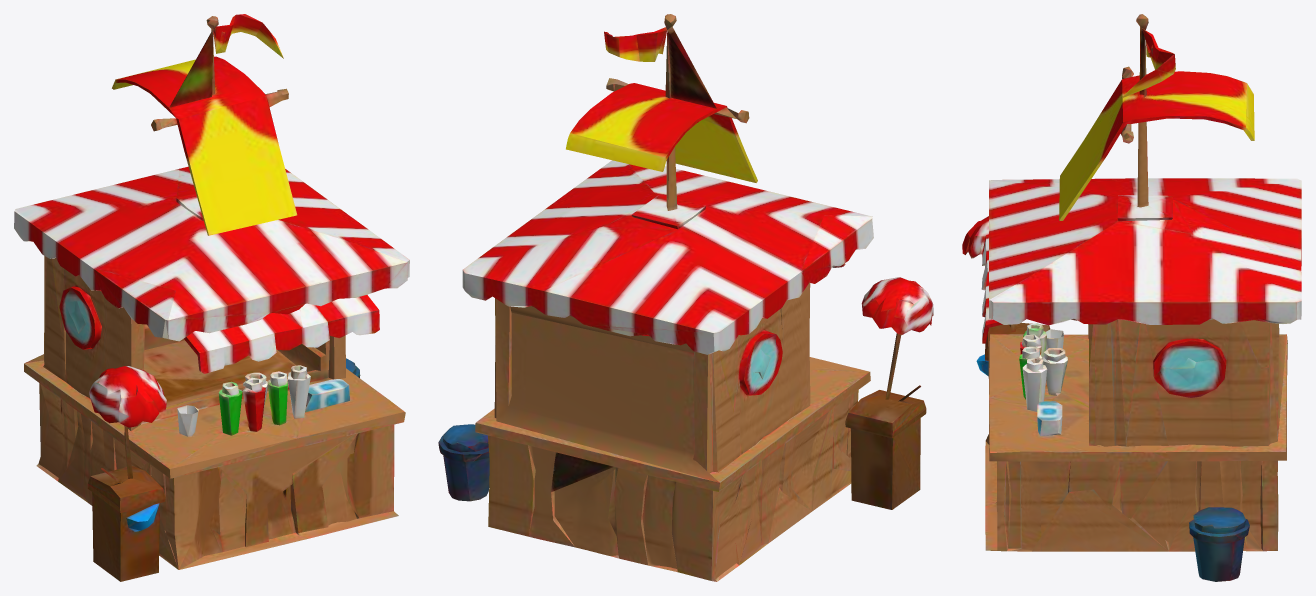
The model's file is kiosk.glb.
3 renders of one model, left to right at view 1: azimuth 30°, elevation 25°; view 2: azimuth 150°, elevation 25°; view 3: azimuth 270°, elevation 25°, orthographic. The views are drawn at different scales.
Bounding box in the file's own units: 1.53 × 1.9 × 1.21.
Materials: 1 (1 with a texture image).
